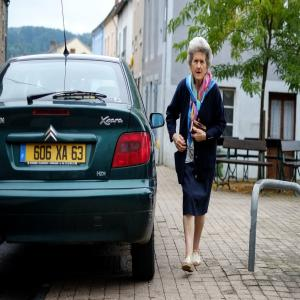Vehicle-registration-plate: (18, 136, 90, 173)
